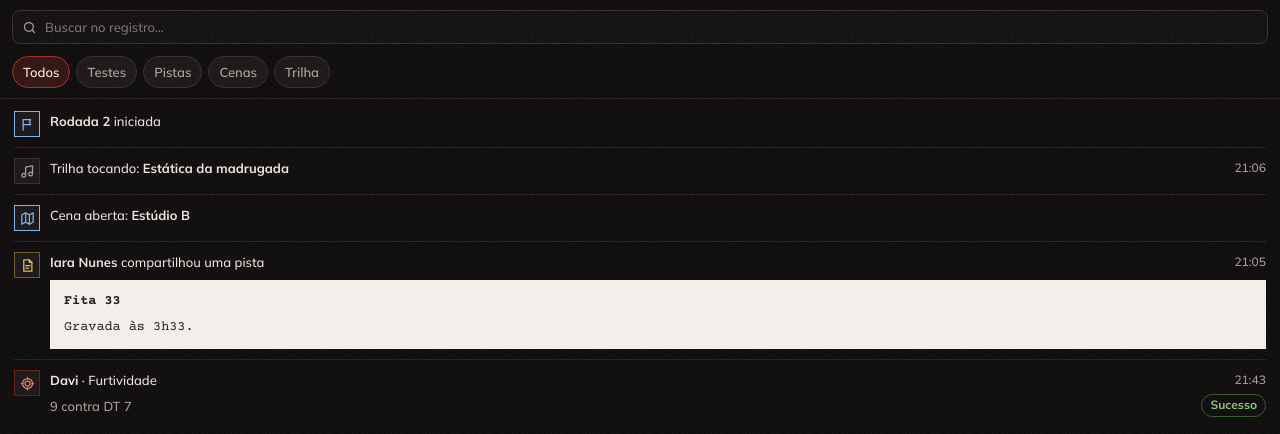
Test: Registro (Acontecimentos) › exclui conversa e narração, não repete seq e filtra por tipo
Check: the text titled "Dados virtuais" is shown, box top-left (50, 396), bottom-right (132, 416)
Check: the text "Iara Nunes" is shown, box top-left (50, 254), bottom-right (118, 270)
Click the button "Pistas" at (173, 72), box top-left (143, 56), bottom-right (202, 88)
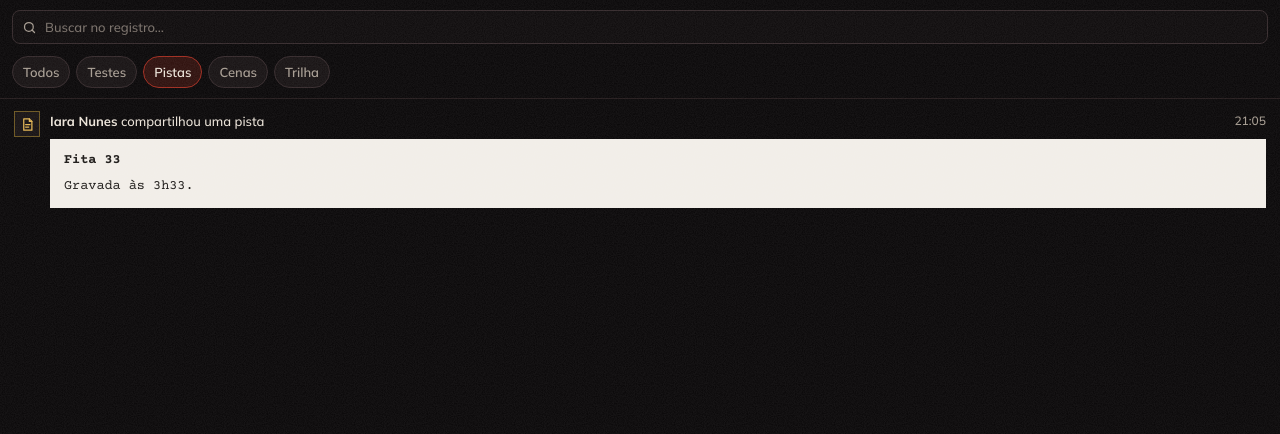
Check: the text "Fita 33" is shown, box top-left (64, 152), bottom-right (121, 168)
Check: the text "Estúdio B" is gone
Click the button "Trilha" at (302, 72), box top-left (274, 56), bottom-right (330, 88)
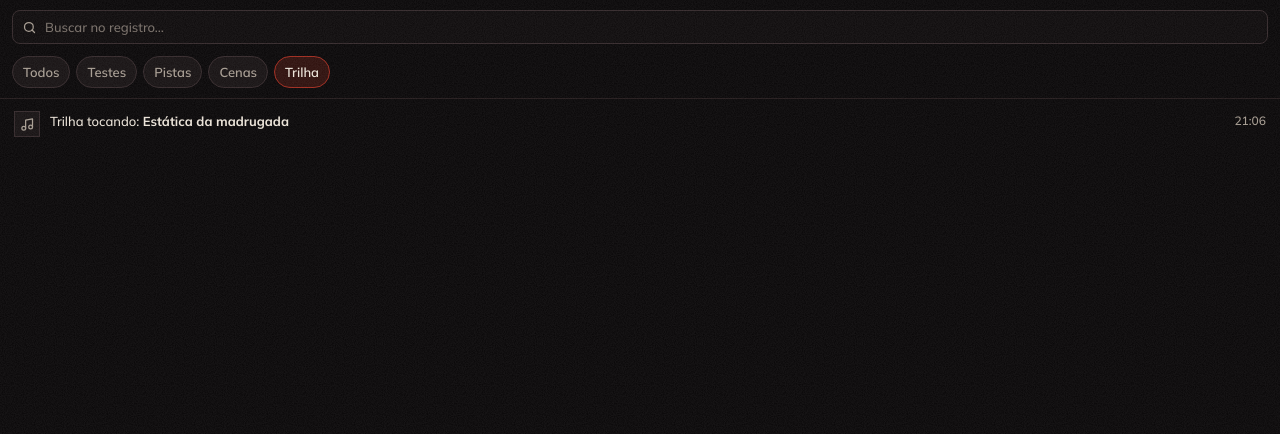
Check: the text "Estática da madrugada" is shown, box top-left (143, 113), bottom-right (289, 129)
Check: the text "Fita 33" is gone
Click the button "Cenas" at (238, 72), box top-left (208, 56), bottom-right (268, 88)
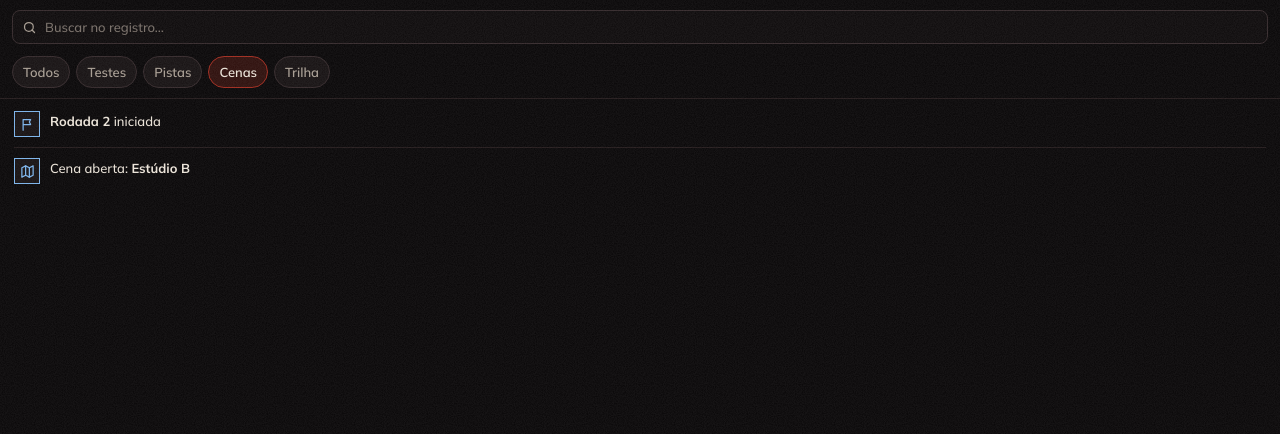
Check: the text "Estúdio B" is shown, box top-left (131, 160), bottom-right (190, 176)
Check: the text "Rodada 2" is shown, box top-left (50, 113), bottom-right (110, 129)
